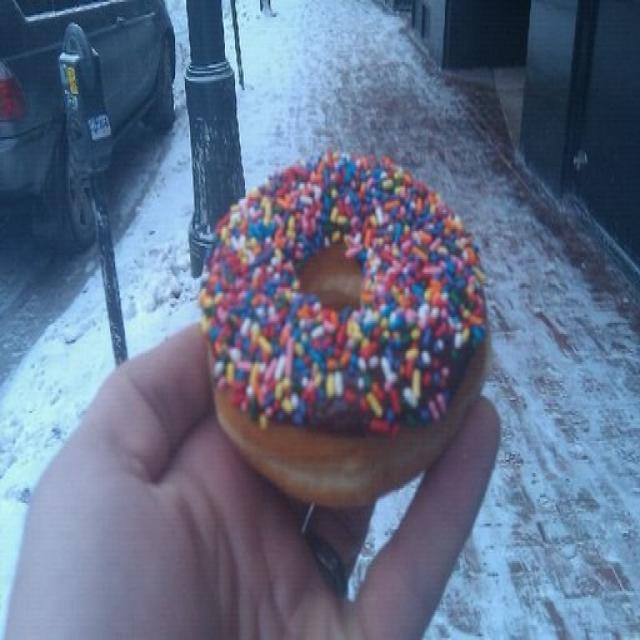Donuts: (174, 133, 532, 533)
